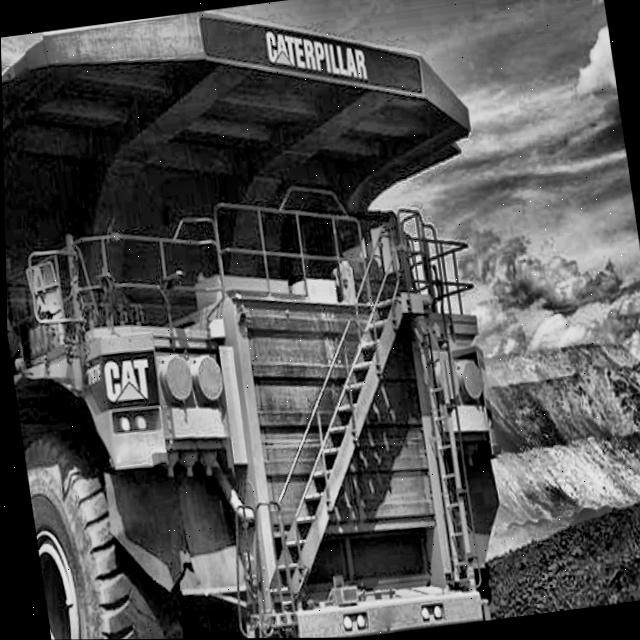dump_truck: (0, 0, 542, 640)
